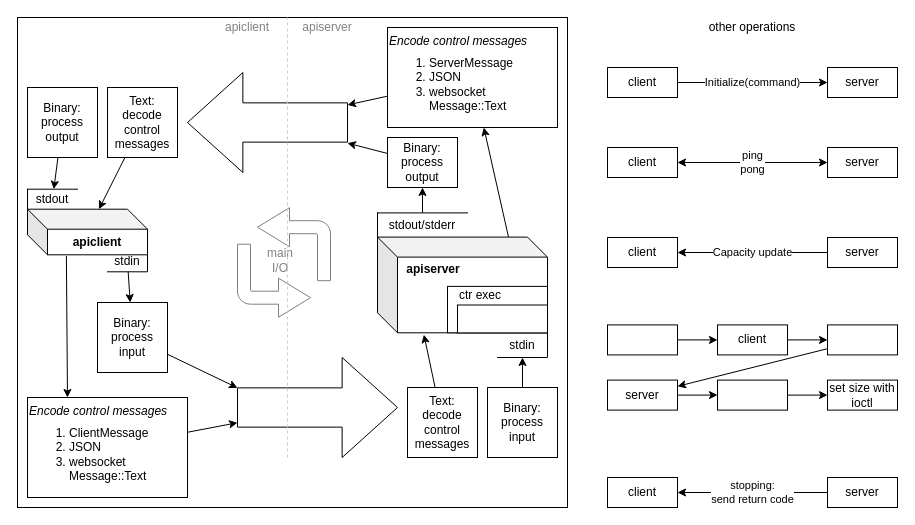
This 915x525 diagram has some shape labels left out. Each missing label, with the centre of its shape:
"child process" belongs at pixel 502 318.
"fetch child pty device" belongs at pixel 752 394.
"fetch size with ioctl" belongs at pixel 862 339.
"SIGWINCH" belongs at pixel 642 339.
"websocket via actix" belongs at pixel 267 122.
"websocket via tokio-tungstenite" belongs at pixel 317 407.
